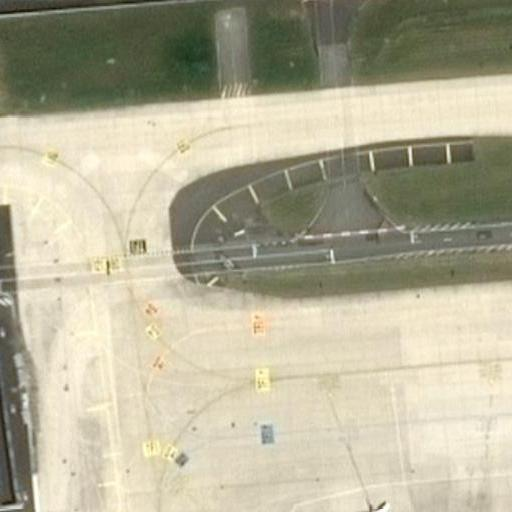Aircraft: (339, 494, 432, 512)
